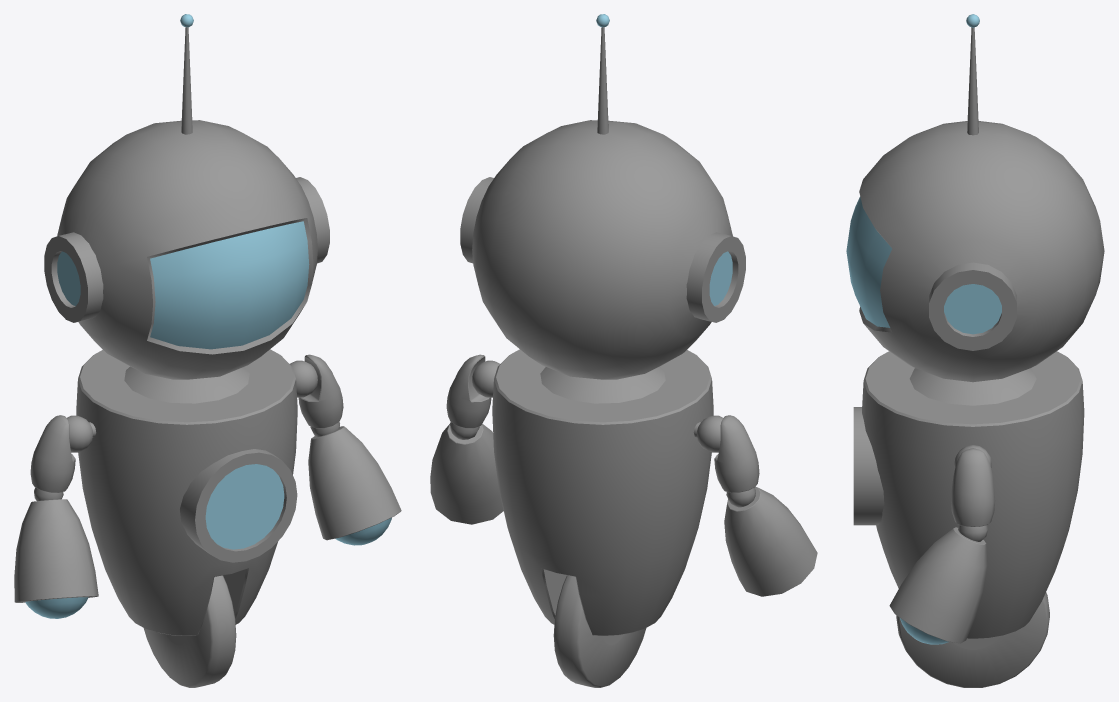
Rendered from PH_robot.FBX.
3 renders of one model, left to right at view 1: azimuth 30°, elevation 25°; view 2: azimuth 150°, elevation 25°; view 3: azimuth 270°, elevation 25°, orthographic.
Visible parts, largest first — view 1: PH_robot, PH_robot_armR, PH_robot_armL, PH_robot_wheel, PH_robot_shoulderR, PH_robot_shoulderL; view 2: PH_robot, PH_robot_armR, PH_robot_armL, PH_robot_wheel, PH_robot_shoulderR, PH_robot_shoulderL; view 3: PH_robot, PH_robot_armL, PH_robot_wheel, PH_robot_shoulderL.
Part boxes in pixels (<box>): PH_robot: <box>44,14,329,635</box>; PH_robot_armR: <box>14,499,98,618</box>; PH_robot_armL: <box>308,426,401,545</box>; PH_robot_wheel: <box>143,575,236,687</box>; PH_robot_shoulderR: <box>30,415,75,500</box>; PH_robot_shoulderL: <box>298,354,343,437</box>; PH_robot: <box>460,14,745,635</box>; PH_robot_armR: <box>724,487,817,596</box>; PH_robot_armL: <box>430,424,503,524</box>; PH_robot_wheel: <box>553,575,646,687</box>; PH_robot_shoulderR: <box>714,415,759,507</box>; PH_robot_shoulderL: <box>446,354,491,439</box>; PH_robot: <box>846,14,1104,638</box>; PH_robot_armL: <box>889,527,987,644</box>; PH_robot_wheel: <box>896,592,1049,687</box>; PH_robot_shoulderL: <box>951,448,995,541</box>.
Size of the model in its own units: 347 by 585 by 205.
